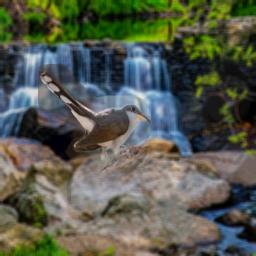Cuckoo: (38, 64, 151, 173)
